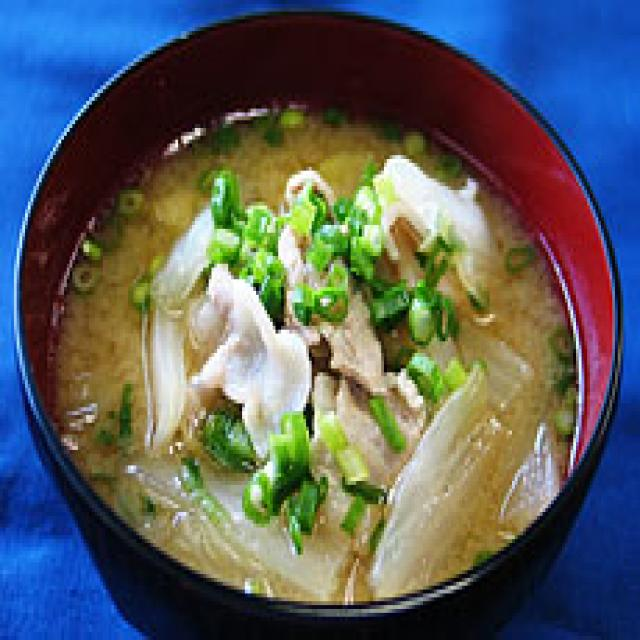汤锅炖物: (5, 0, 629, 640)
